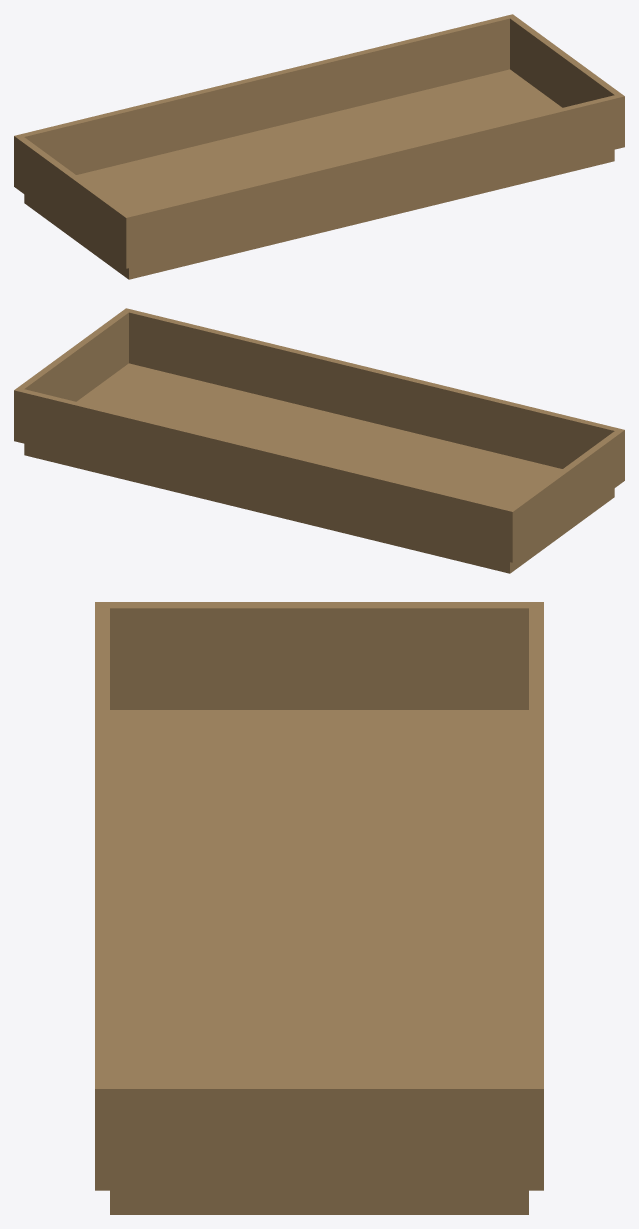
Rendered from krause_corda_4200_wood.dae.
3 renders of one model, top to bottom at view 1: azimuth 30°, elevation 25°; view 2: azimuth 150°, elevation 25°; view 3: azimuth 270°, elevation 25°, orthographic. The views are drawn at different scales.
Parts seen in each view (by area): view 1: wood; view 2: wood; view 3: wood.
Boxes of the visible parts, bbox=[...] form: wood: bbox=[14, 14, 624, 279]; wood: bbox=[14, 308, 624, 573]; wood: bbox=[95, 602, 543, 1214].
Bounding box in the file's own units: 1.54 × 0.6 × 0.195.
